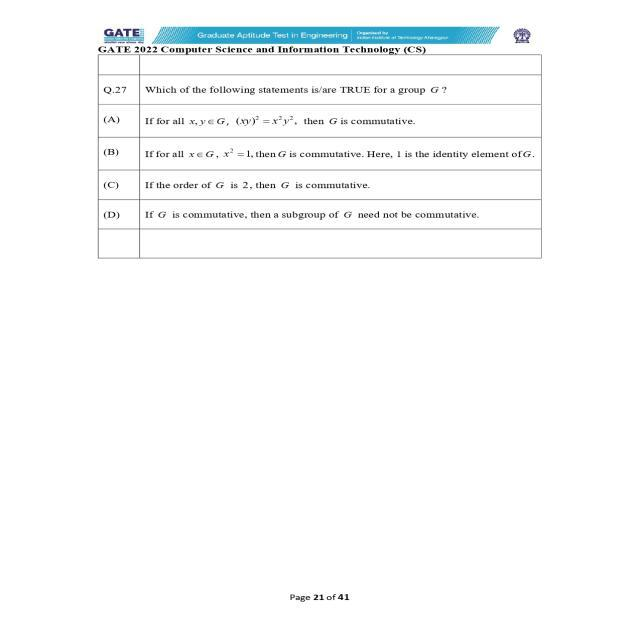Answer_Block: (98, 105, 542, 230)
Question_Answer_Block: (98, 76, 542, 230)
Question_Block: (96, 75, 542, 104)
Question_Paper_Area: (97, 74, 540, 229)
